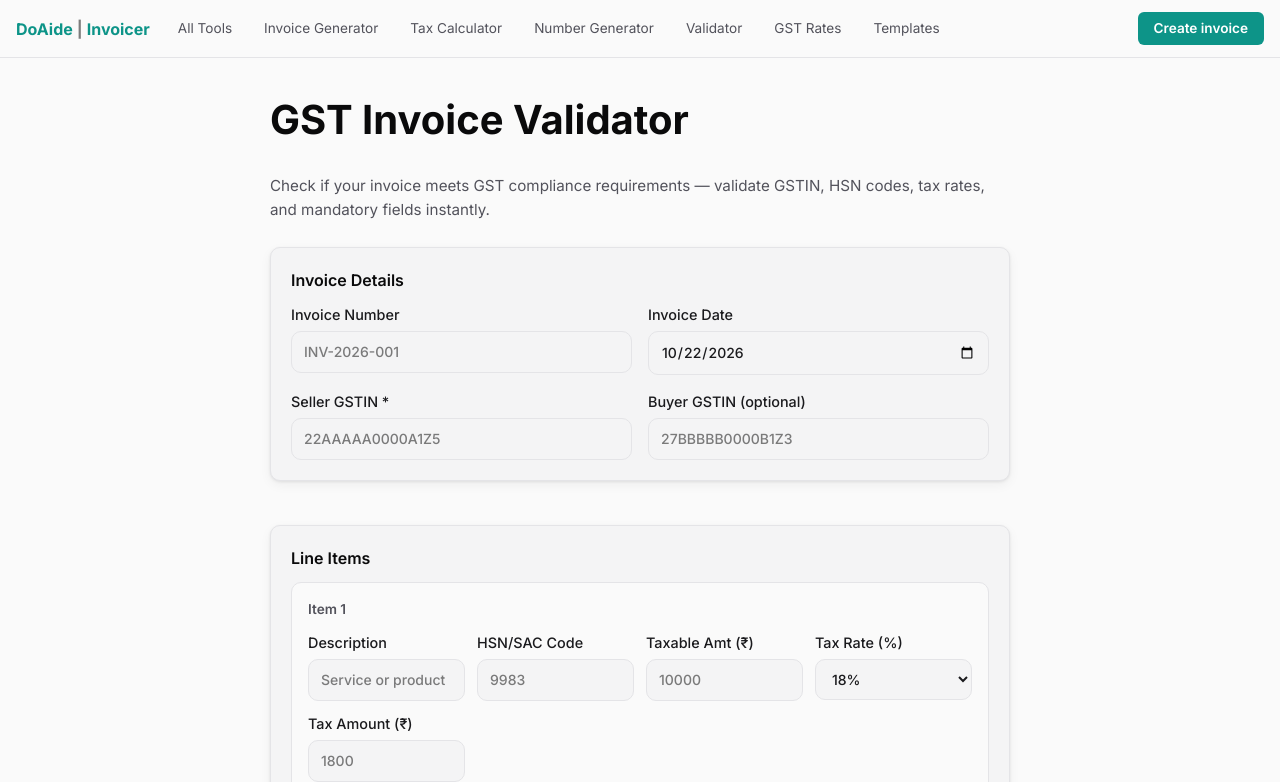
Test case: InvoiceValidatorPage › resets form when clicking reset
Type "TEST-001" into the field with placeholder "INV-2026-001".
click(462, 352); type("TEST-001")  # box [291,331,632,373]
(page scrolled)
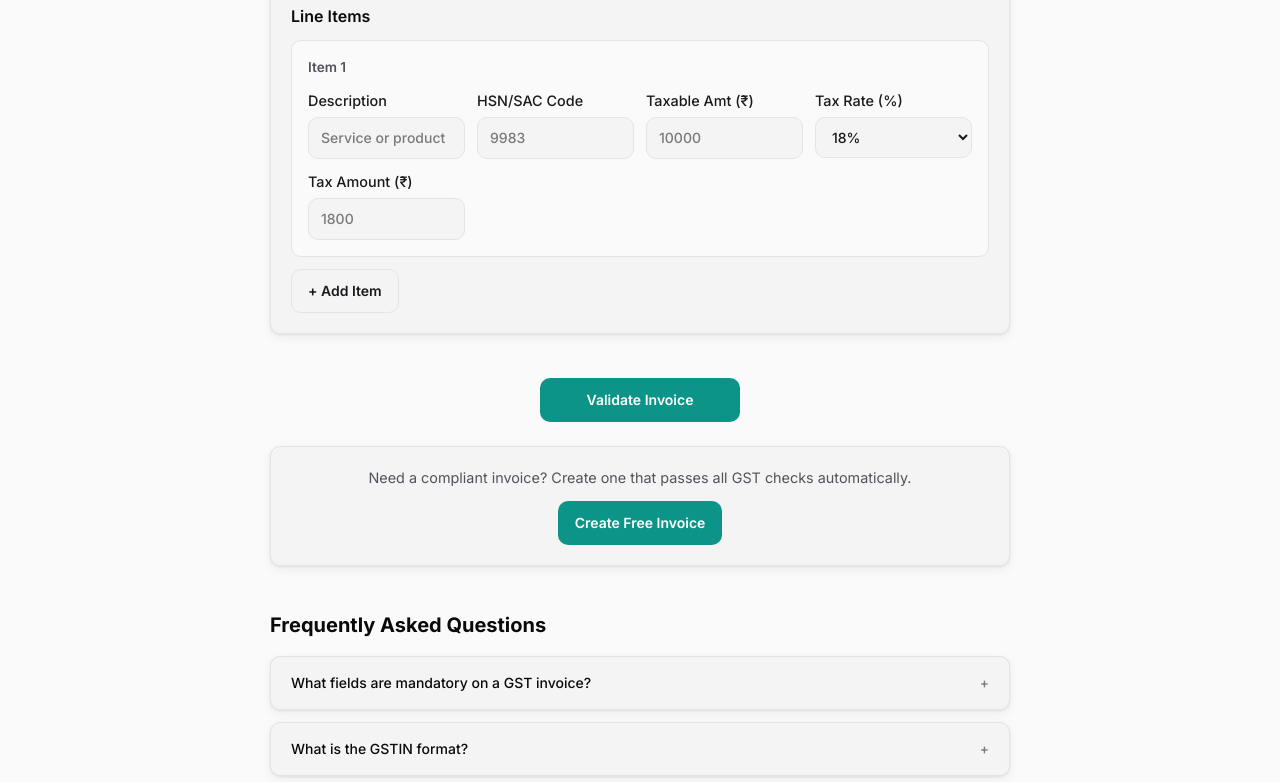
Click the button "Validate Invoice".
click(640, 400)  # box [540,378,740,422]
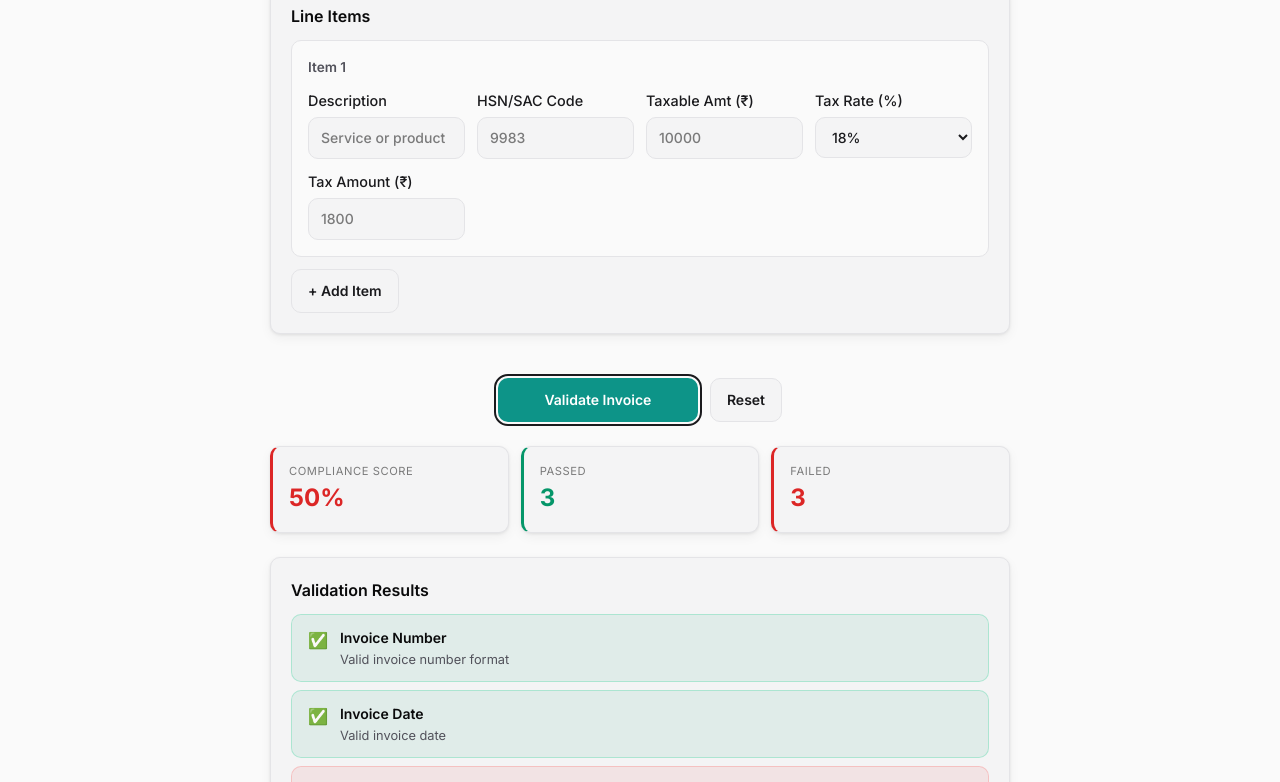
Click the button "Reset".
click(746, 400)  # box [710,378,782,422]
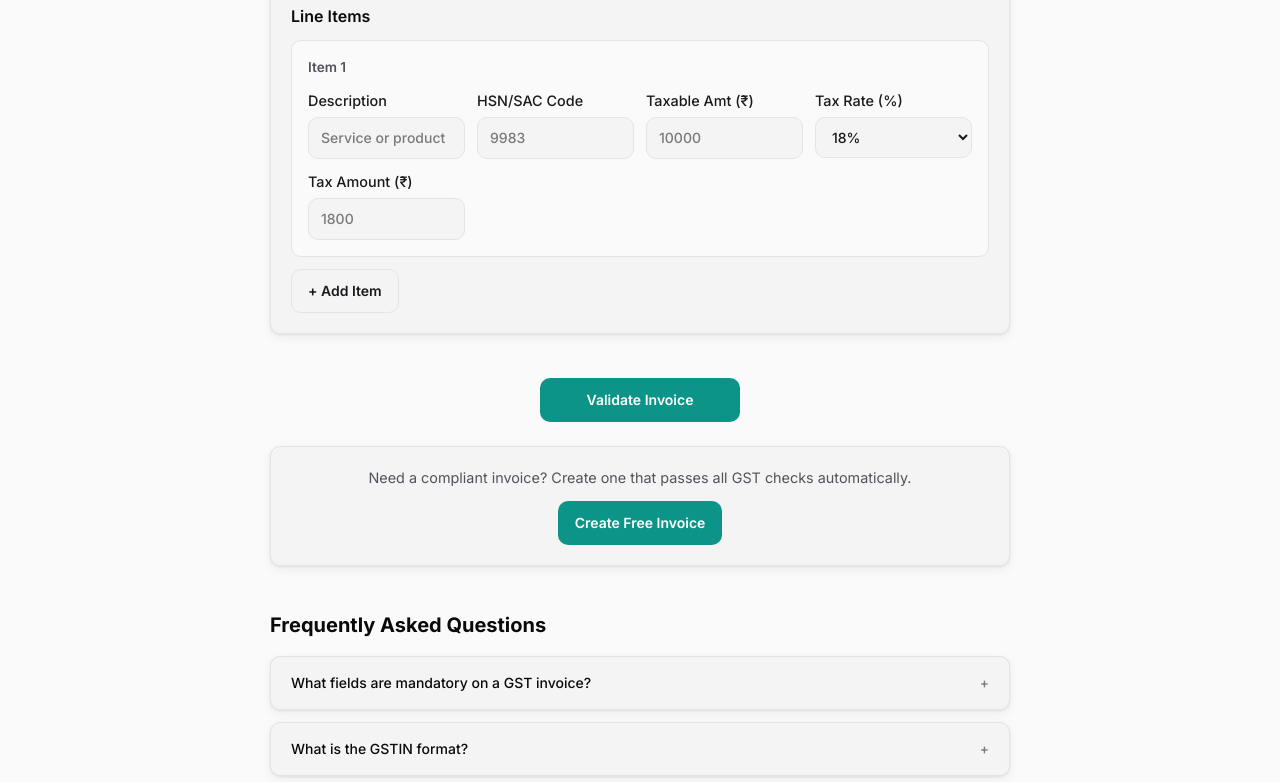
Expected: the text "Compliance Score" is gone
